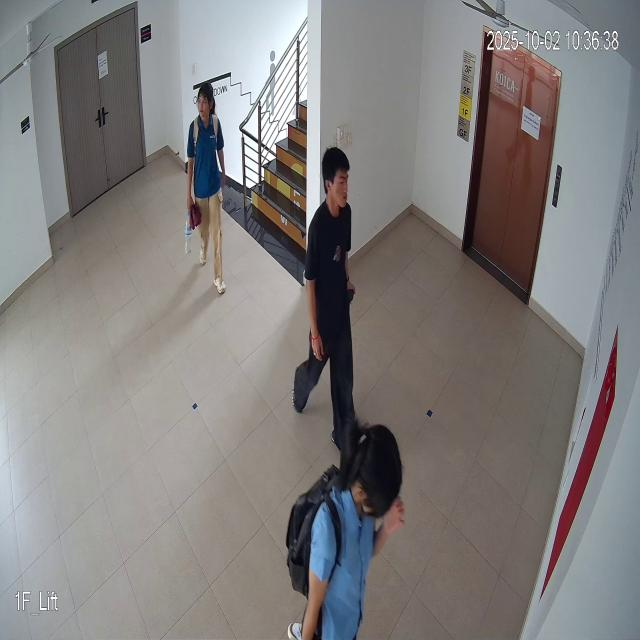face: (321, 147, 352, 210)
